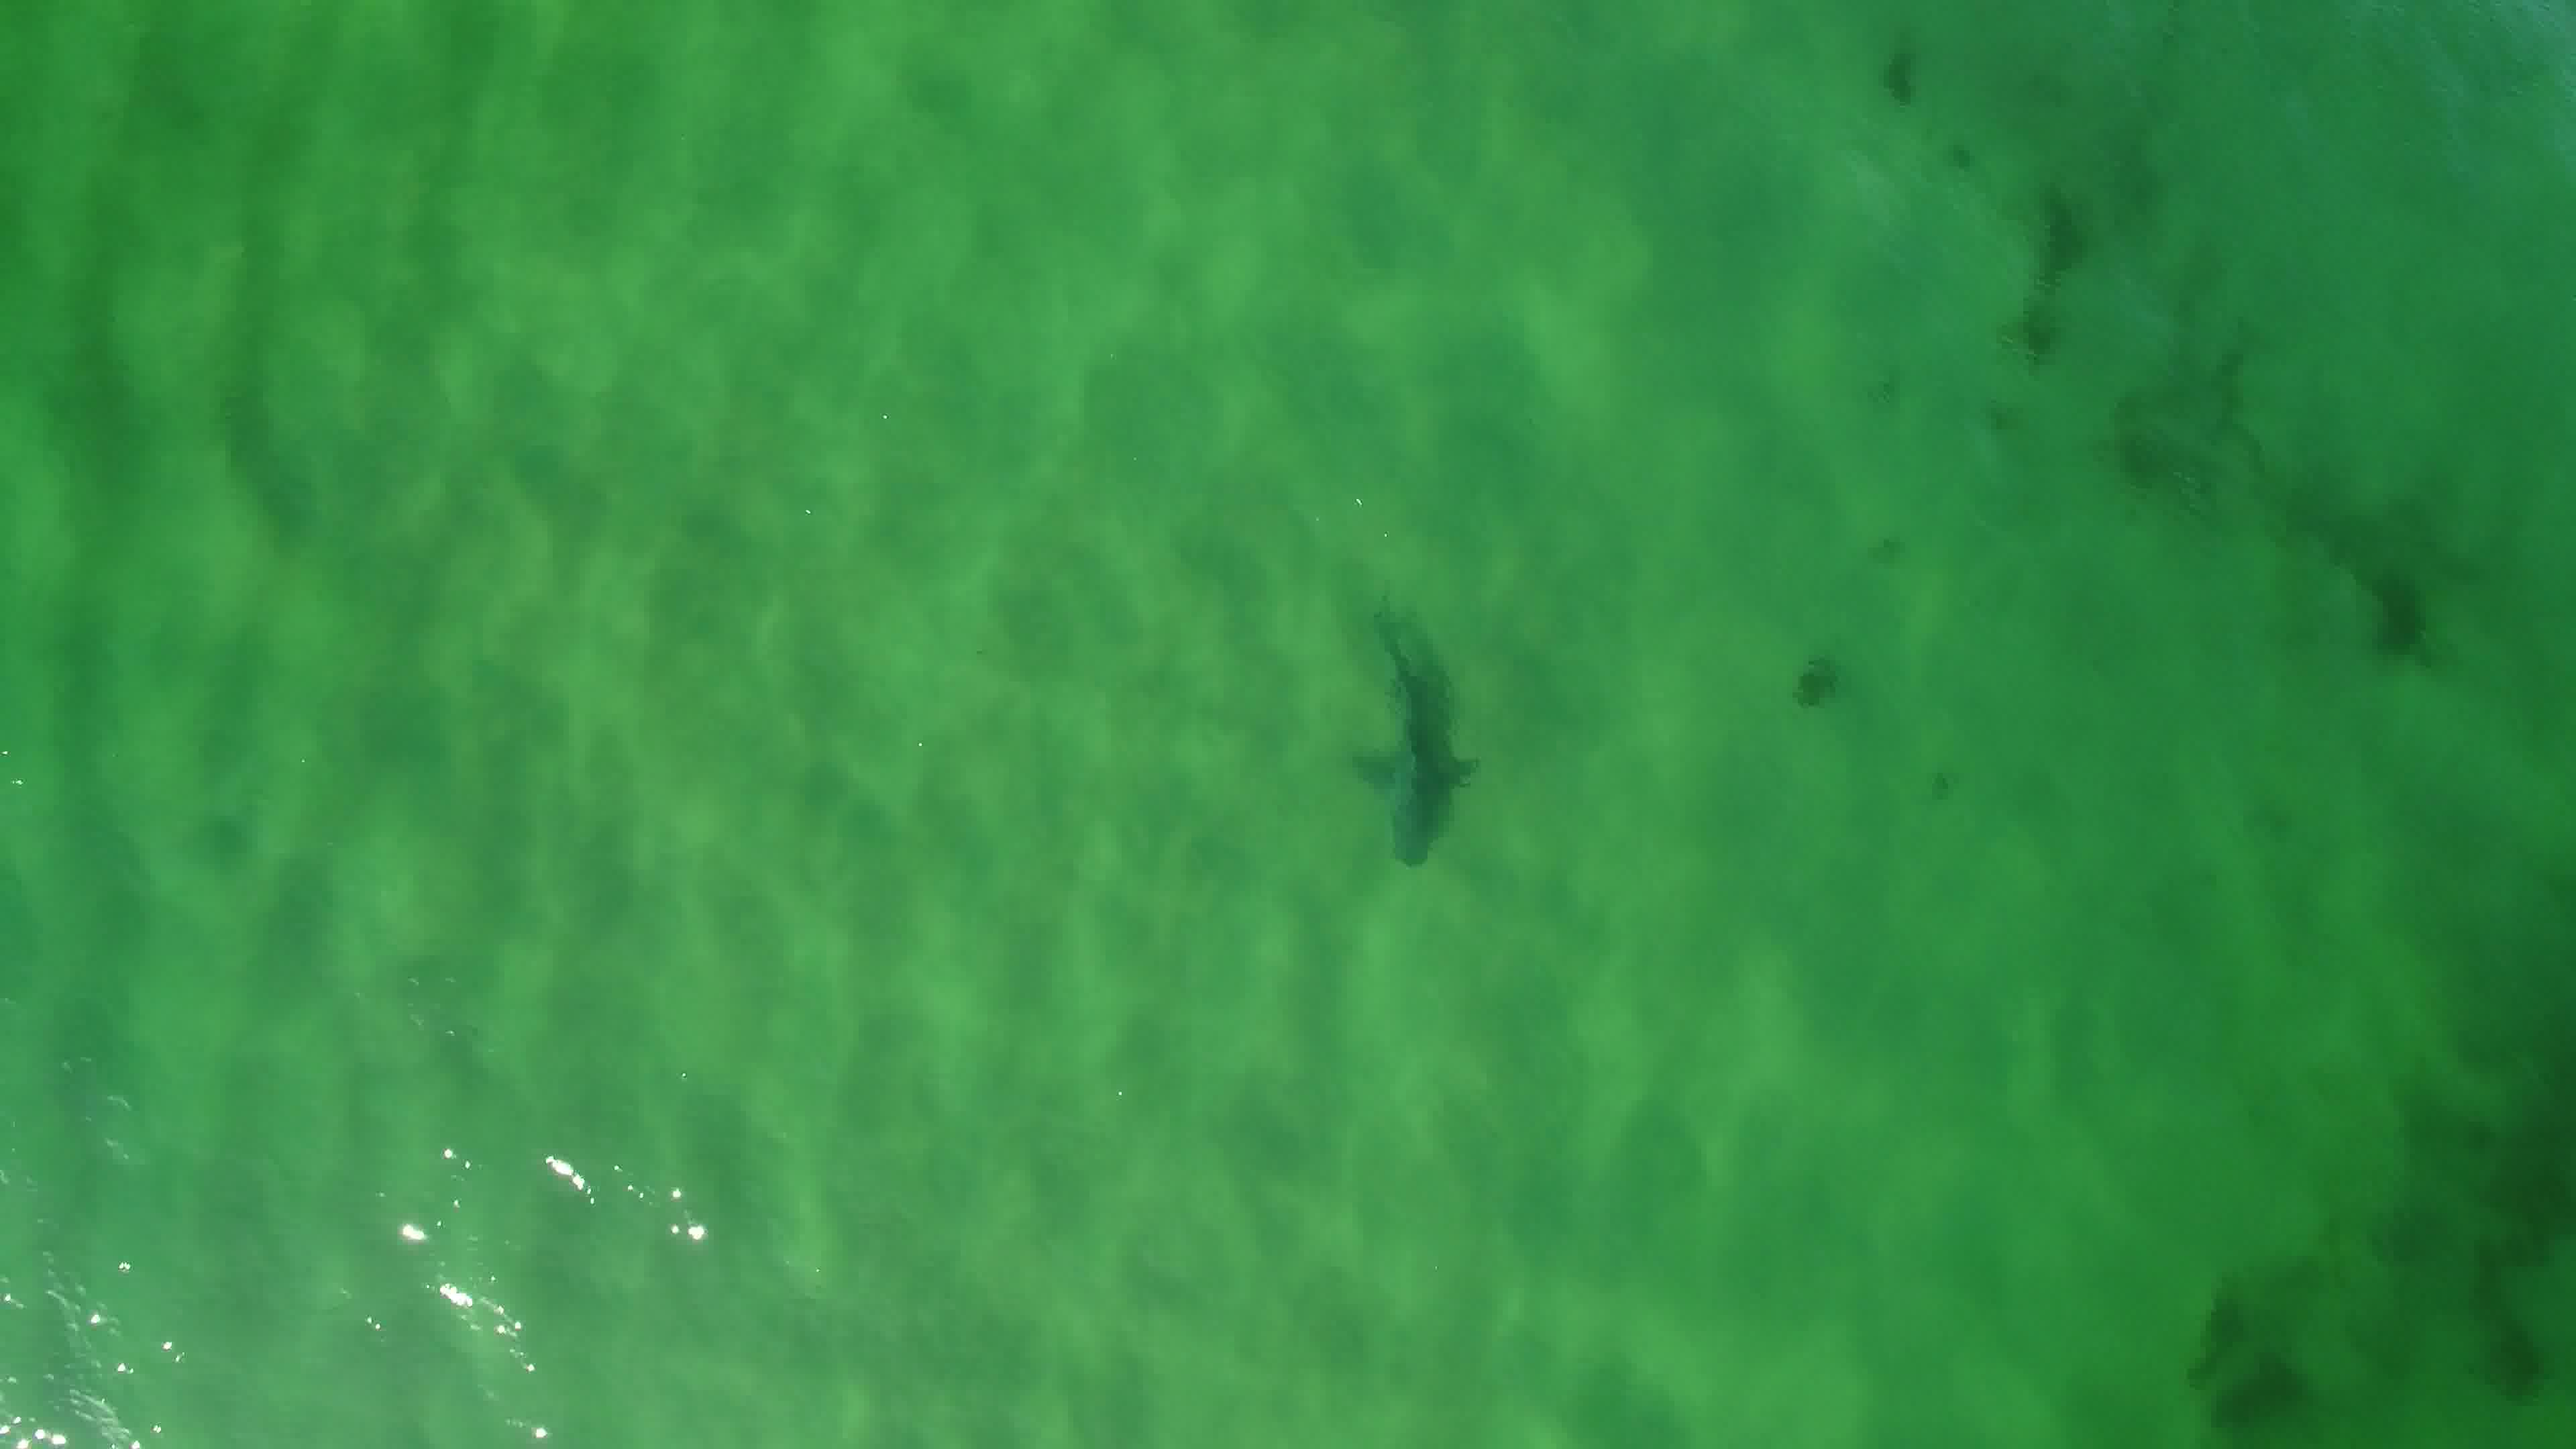shark: (1332, 582, 1488, 878)
